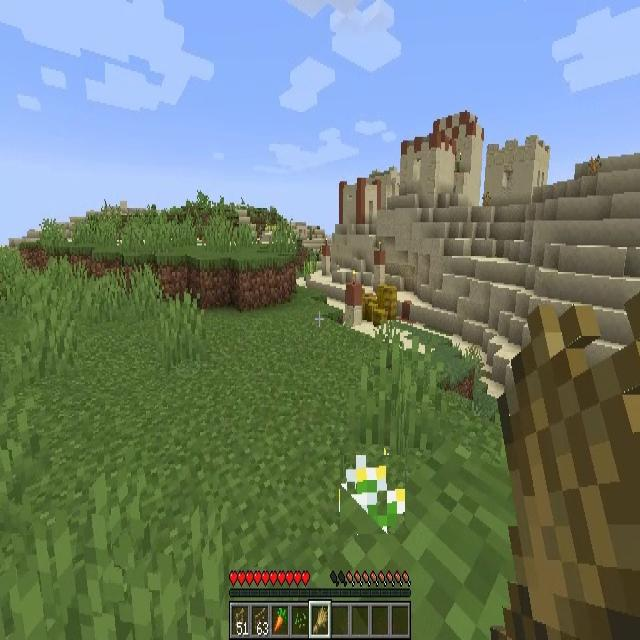flower: (340, 455, 405, 534)
